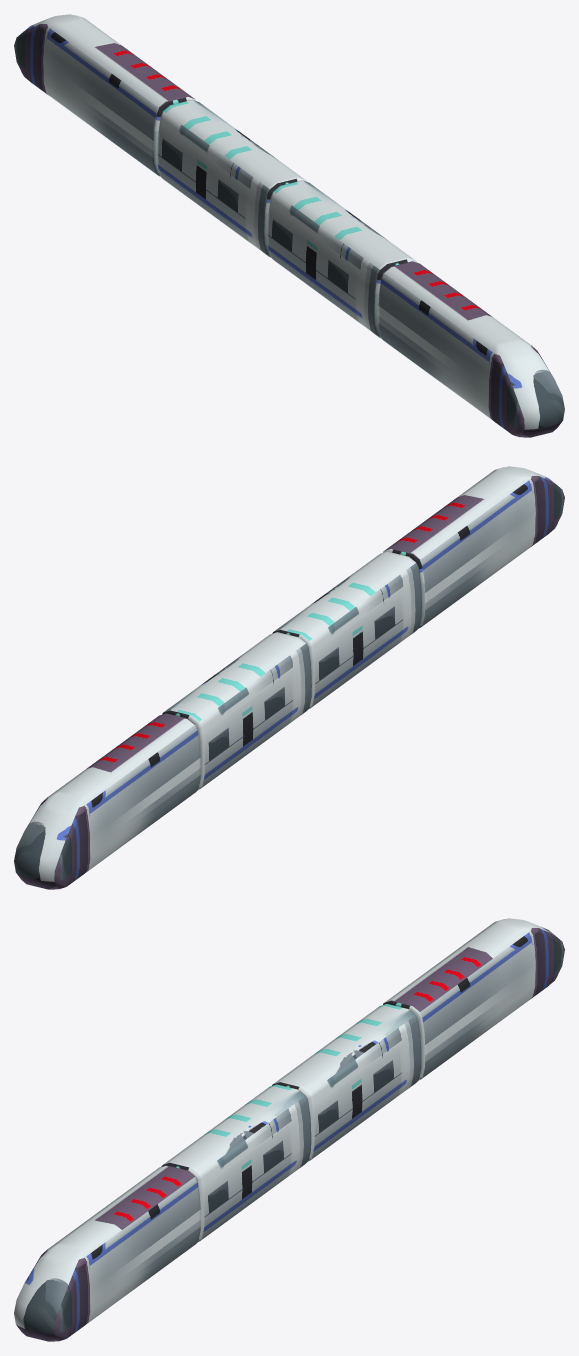
Rendered from train_001.fbx.
3 renders of one model, top to bottom at view 1: azimuth 30°, elevation 25°; view 2: azimuth 150°, elevation 25°; view 3: azimuth 330°, elevation 25°, orthographic.
Visible parts, largest first — view 1: polySurface3, polySurface1, polySurface4; view 2: polySurface3, polySurface4, polySurface1; view 3: polySurface3, polySurface1, polySurface4.
Part boxes in pixels (x1=…): polySurface3: x1=14, y1=14, x2=564, y2=437; polySurface1: x1=267, y1=180, x2=417, y2=337; polySurface4: x1=157, y1=100, x2=306, y2=257; polySurface3: x1=14, y1=466, x2=564, y2=889; polySurface4: x1=162, y1=632, x2=311, y2=789; polySurface1: x1=272, y1=551, x2=421, y2=708; polySurface3: x1=14, y1=918, x2=564, y2=1341; polySurface1: x1=161, y1=1084, x2=311, y2=1241; polySurface4: x1=272, y1=1004, x2=421, y2=1161.
Bounding box in the file's own units: 288 × 419 × 5421.
